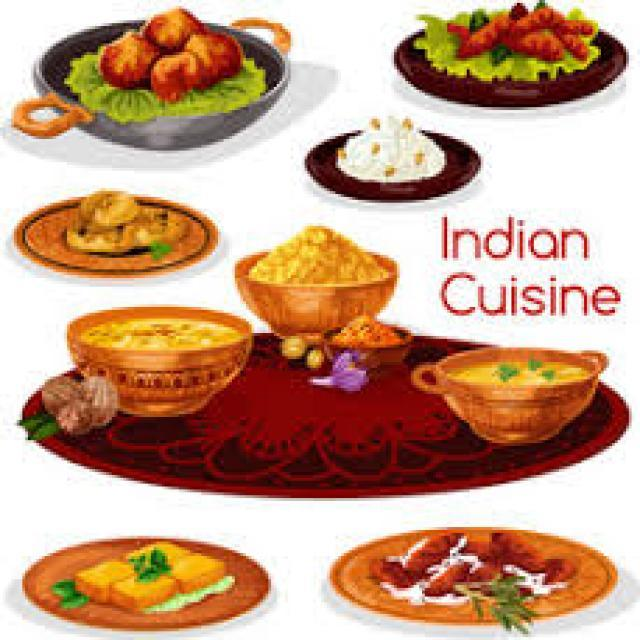dal: (441, 343, 600, 409)
rice: (237, 222, 403, 336)
veg-fry: (86, 0, 281, 120), (409, 0, 599, 115), (48, 530, 257, 630), (28, 185, 214, 282)
